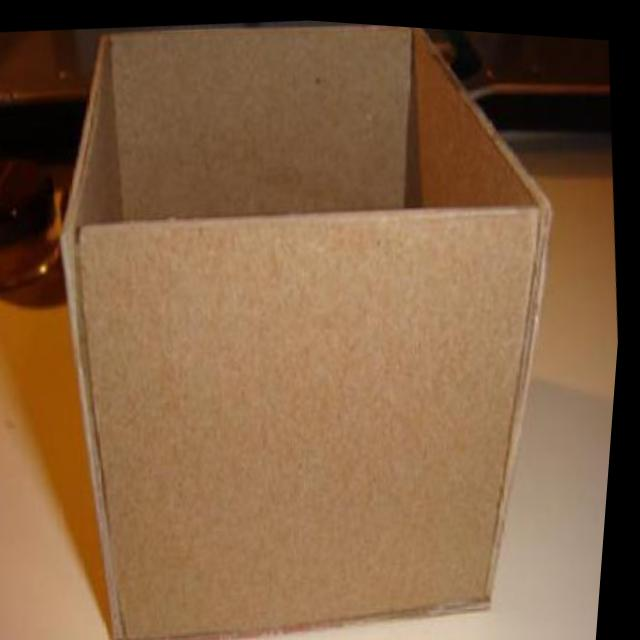box: (8, 2, 617, 640)
